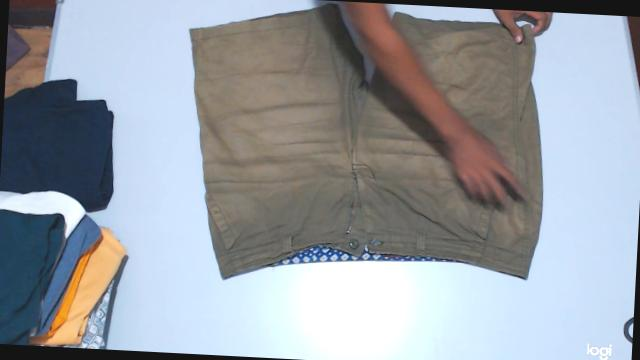new-garment: (190, 3, 542, 278)
